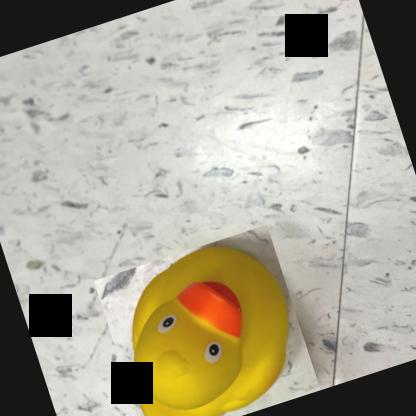duck: (94, 224, 321, 416)
